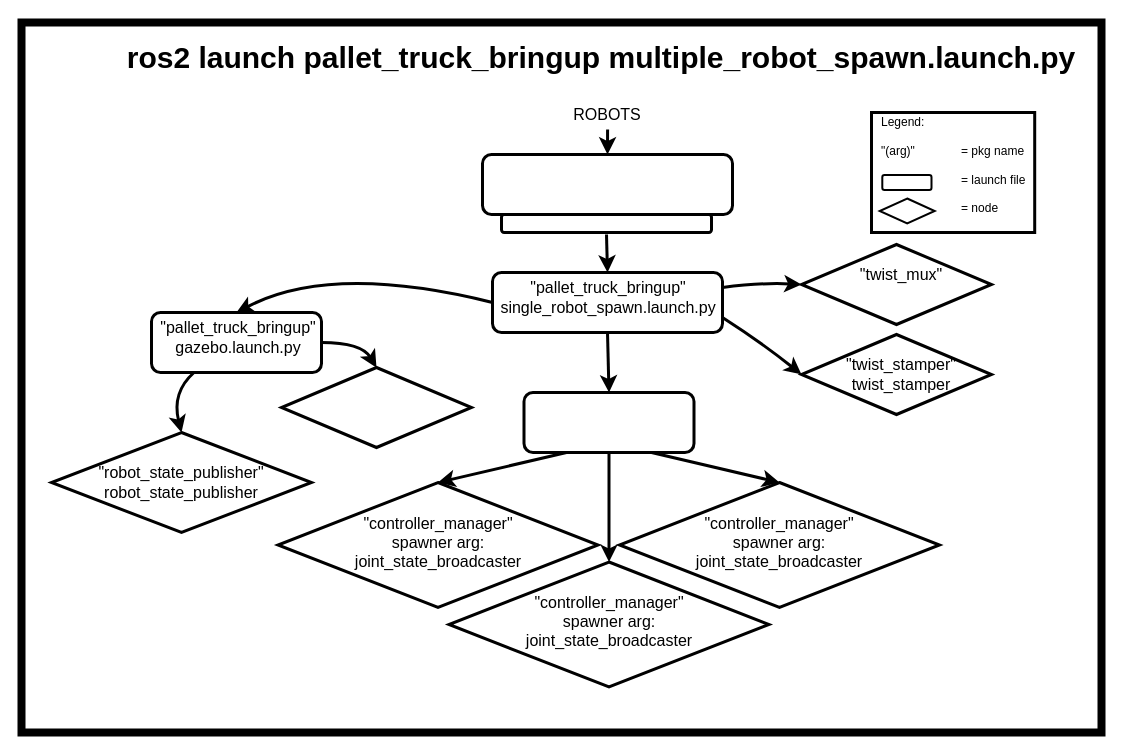
Image size: 1128x754. Some labels were removed from this diagram. The shapes that lost their labels are listed below. From the top down, each one's centre as x and y in pixels, then its label:
the point at 607,184: "pallet_truck_bringup" multiple_robot_spawn.launch.py
the point at 606,223: for each robot
the point at 376,407: "ros_gz_sim" create
the point at 608,422: "pallet_truck_control" control.launch.py
